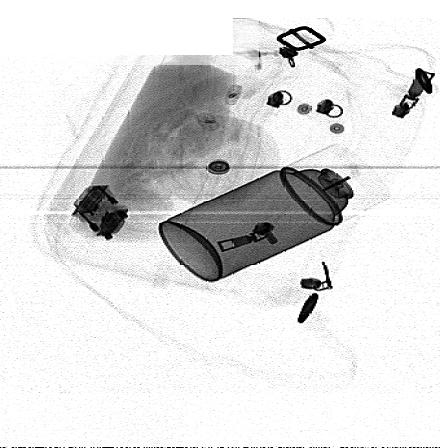Sprayer: (157, 145, 390, 281)
